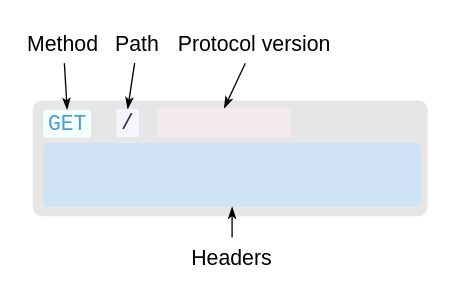
Some shapes in this 450 by 299 pixel diagram are drawn without their labels. The centre of each missing label's shape, as x and y in pixels:
Host : developer.mozilla.org Accept-Language : fr: the point at 231,174
HTTP / 1.1: the point at 223,122
